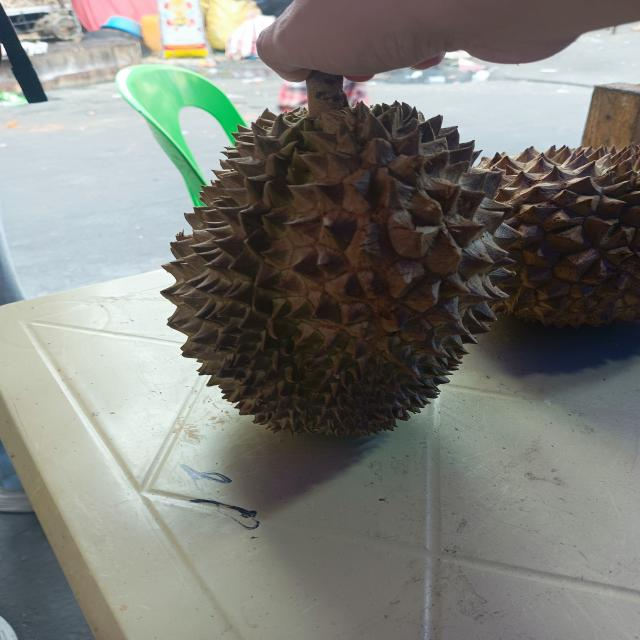mature: (128, 88, 521, 476)
